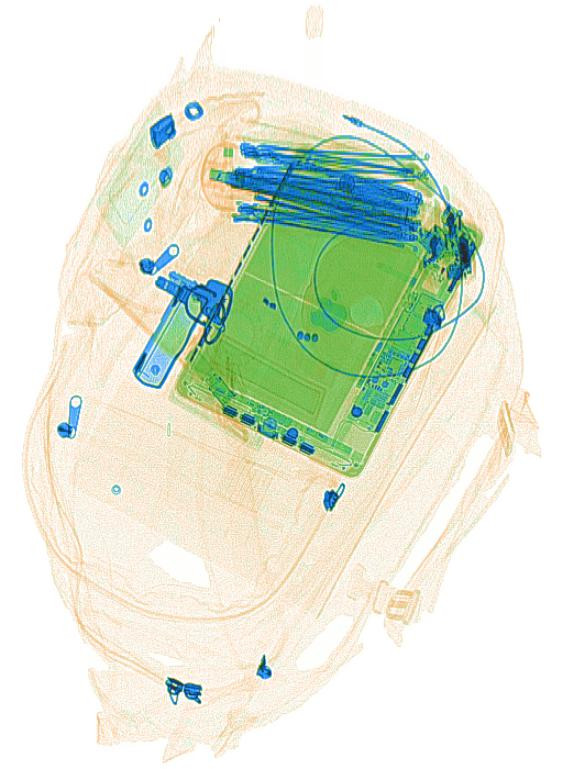USBFlashDisk: (185, 346, 235, 410)
